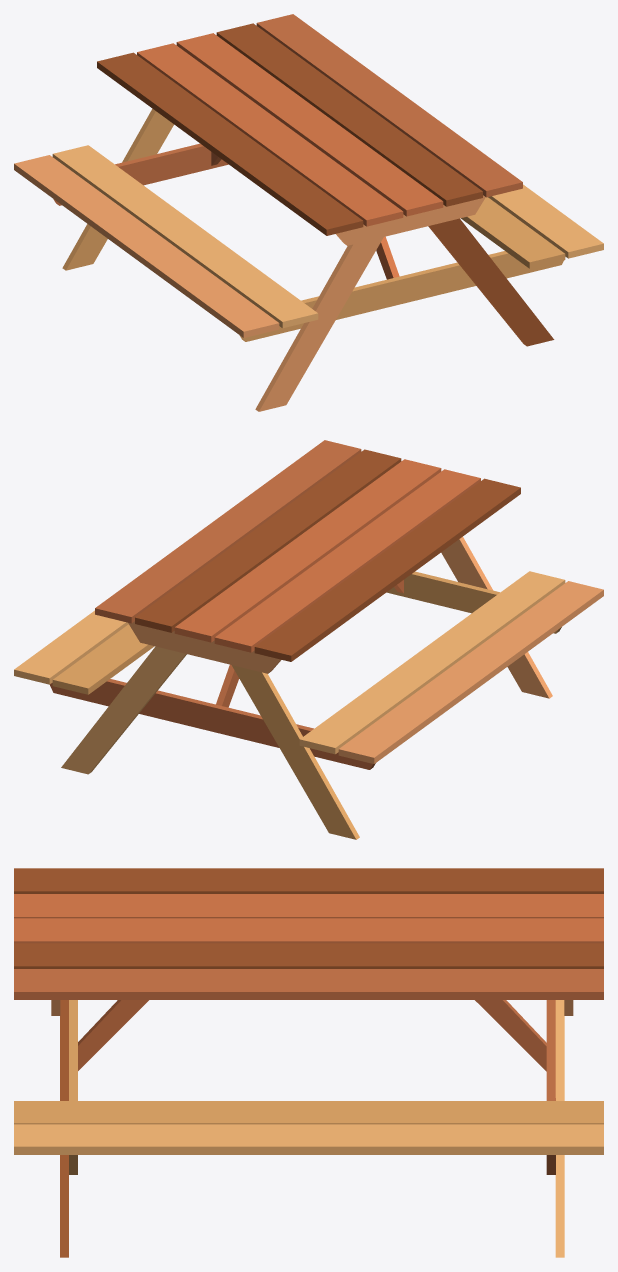
Rendered from Bench.obj.
The picture shows the model from 3 angles, top to bottom: view 1: azimuth 30°, elevation 25°; view 2: azimuth 150°, elevation 25°; view 3: azimuth 270°, elevation 25°; orthographic projection. The views are drawn at different scales.
Parts seen in each view (by area): view 1: Bench; view 2: Bench; view 3: Bench.
Boxes of the visible parts, x1,y1,x2,y2 form: Bench: (14,14,603,411); Bench: (14,440,603,839); Bench: (14,868,603,1257).
Bounding box in the file's own units: 1.88 × 0.9126 × 2.07.
